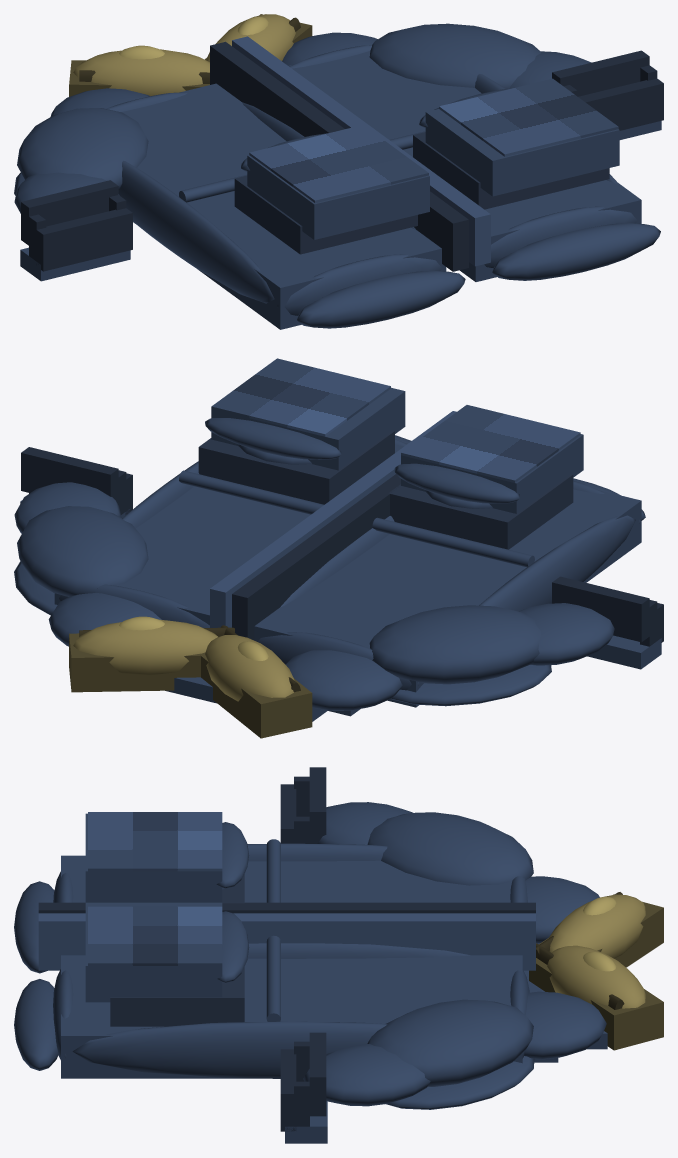
Rendered from CMU3DCivilianJacketBlueParkaWorldCloud.glb.
3 renders of one model, top to bottom at view 1: azimuth 30°, elevation 25°; view 2: azimuth 150°, elevation 25°; view 3: azimuth 270°, elevation 25°, orthographic. The views are drawn at different scales.
Visible parts, largest first — view 1: left long parka front cloth face, right long parka front cloth face, right soft upper sleeve, left original pocket stitching, right original pocket stitching, right woven pocket face, left long parka front side fold left, left narrow front closure, left soft upper sleeve, left woven pocket face, left bottom turn-up, right bottom turn-up (+22 smaller); view 2: left long parka front cloth face, right long parka front cloth face, left soft upper sleeve, right soft upper sleeve, right original pocket stitching, left original pocket stitching, left narrow front closure, right patch pocket folded sides, left patch pocket folded sides, left long parka front side fold left, right continuous low fur collar band, right narrow front closure (+22 smaller); view 3: right long parka front cloth face, right narrow front closure, right long parka front side fold right, right soft upper sleeve, left long parka front cloth face, left soft upper sleeve, left original pocket stitching, right original pocket stitching, right woven pocket face, right outward forearm fold, left woven pocket face, left narrow front closure (+25 smaller).
Boxes of the visible parts, x1,y1,x2,y2 form: left long parka front cloth face: (121, 83, 446, 329); right long parka front cloth face: (288, 51, 641, 281); right soft upper sleeve: (369, 23, 540, 88); left original pocket stitching: (249, 125, 428, 202); right original pocket stitching: (439, 78, 618, 156); right woven pocket face: (425, 109, 619, 196); left long parka front side fold left: (118, 160, 274, 303); left narrow front closure: (210, 41, 468, 271); left soft upper sleeve: (17, 108, 148, 190); left woven pocket face: (247, 155, 429, 239); left bottom turn-up: (297, 270, 465, 328); right bottom turn-up: (492, 223, 660, 280); left long parka front cloth face: (254, 489, 641, 707); right long parka front cloth face: (54, 442, 407, 625); left soft upper sleeve: (369, 605, 540, 684); right soft upper sleeve: (17, 506, 148, 596); right original pocket stitching: (211, 358, 390, 436); left original pocket stitching: (401, 405, 580, 482); left narrow front closure: (232, 474, 400, 640); right patch pocket folded sides: (198, 430, 394, 504); left patch pocket folded sides: (389, 474, 573, 549); left long parka front side fold left: (479, 515, 635, 611); right continuous low fur collar band: (73, 619, 217, 675); right narrow front closure: (210, 411, 456, 627); right long parka front cloth face: (61, 955, 522, 1078); right narrow front closure: (38, 913, 535, 970); right long parka front side fold right: (72, 1021, 387, 1078); right soft upper sleeve: (367, 999, 533, 1086); left long parka front cloth face: (61, 855, 522, 902); left soft upper sleeve: (367, 812, 533, 885); left original pocket stitching: (88, 812, 222, 871); right original pocket stitching: (88, 906, 222, 965); right woven pocket face: (85, 902, 222, 1002); right outward forearm fold: (303, 1043, 430, 1106); left woven pocket face: (85, 813, 222, 902); left narrow front closure: (38, 902, 535, 913).
Size of the model in its own units: 0.5112 by 0.091 by 0.4534.
10 materials, 2 textured.
